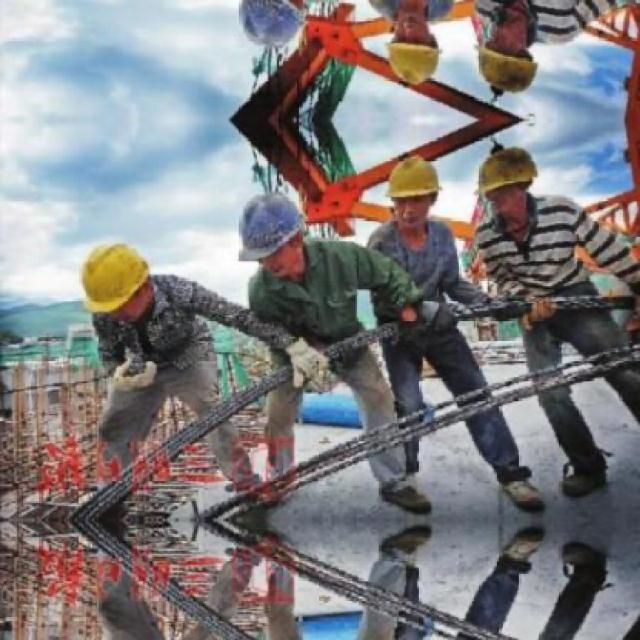con casco: (241, 179, 362, 269), (101, 222, 224, 310), (477, 143, 555, 243), (350, 176, 468, 238)
